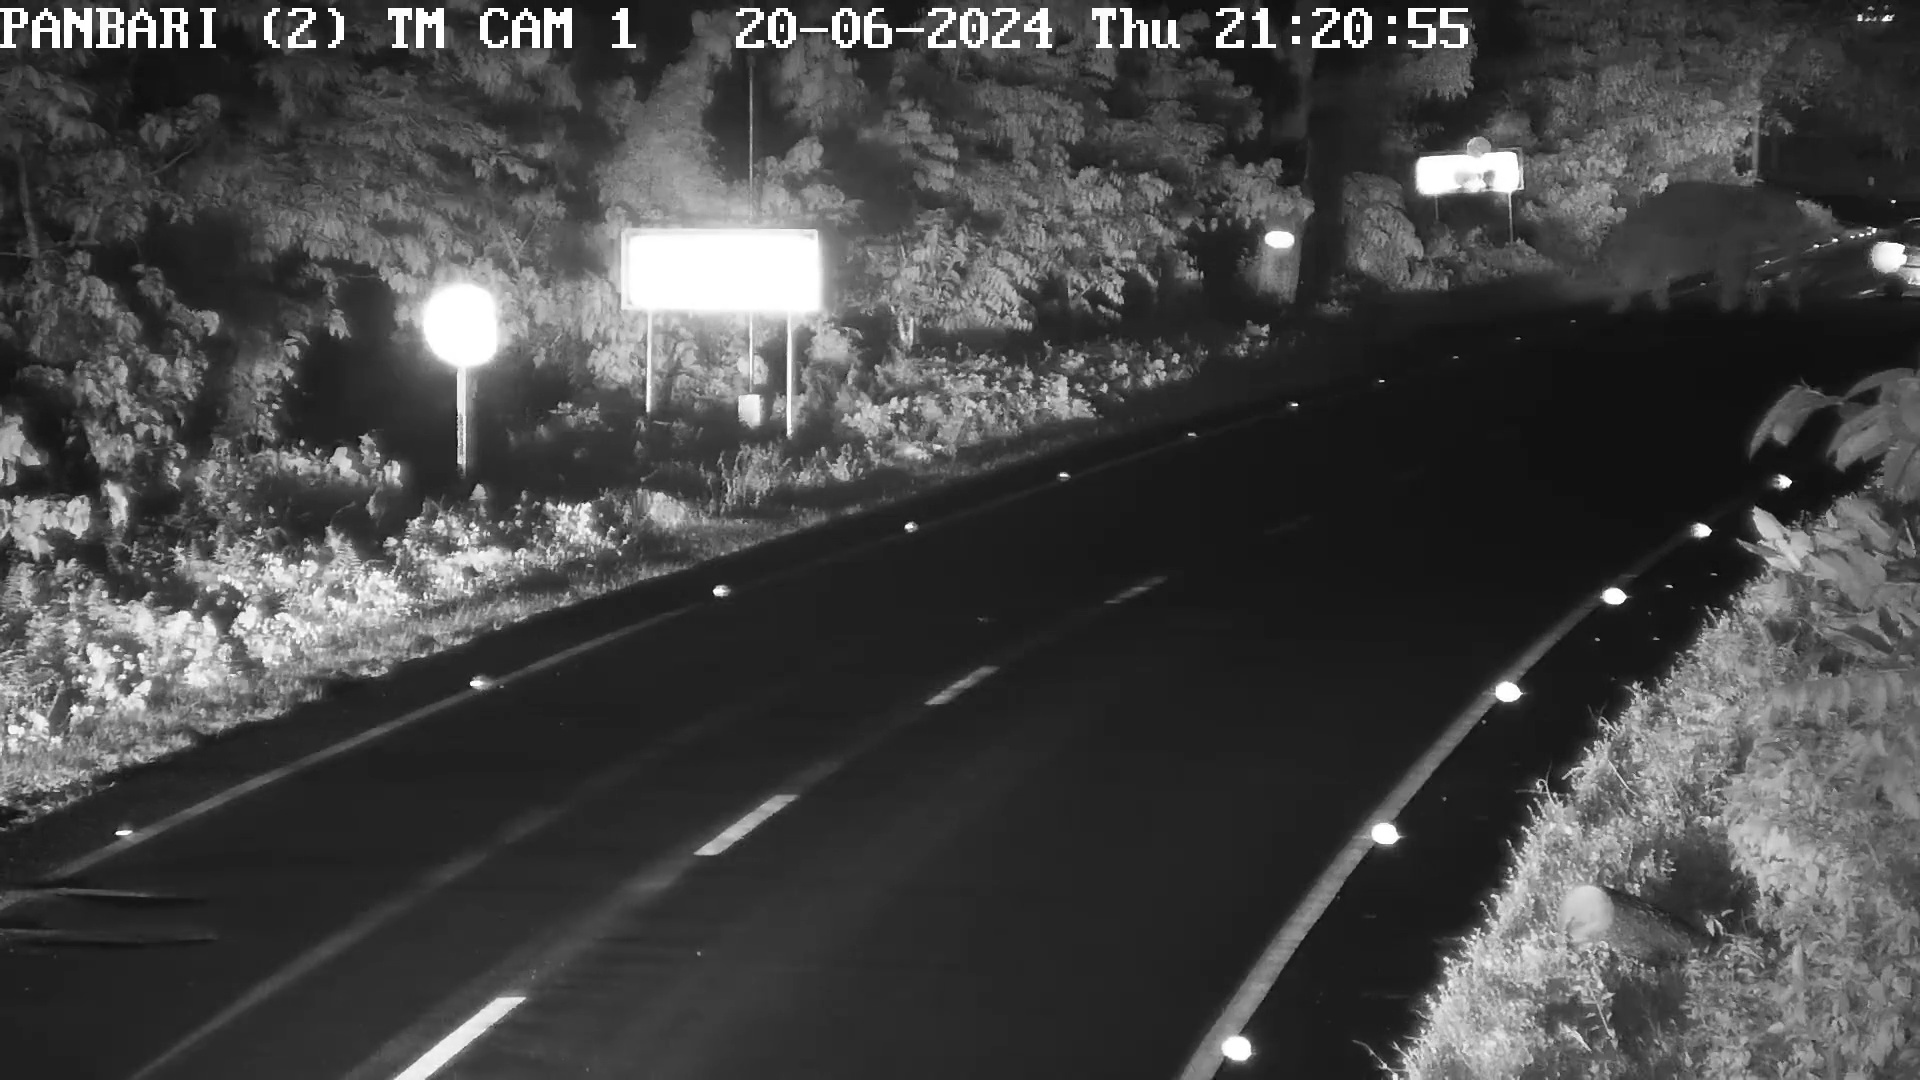elephants: (1601, 177, 1826, 324)
